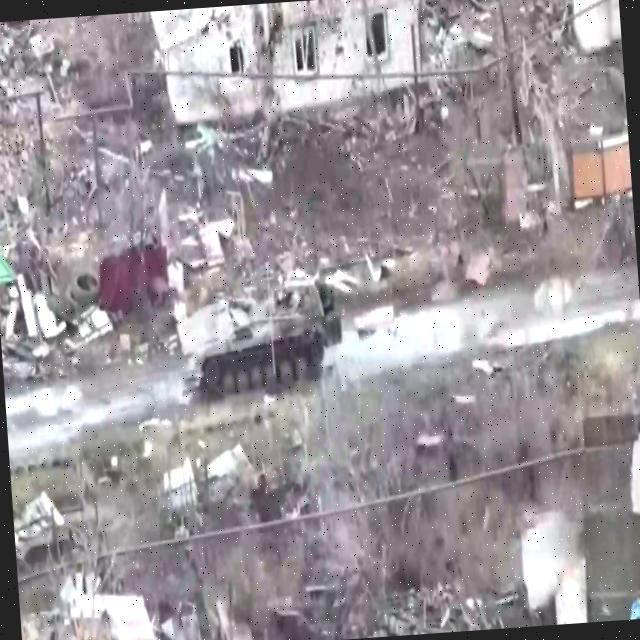AIFV: (175, 279, 339, 406)
